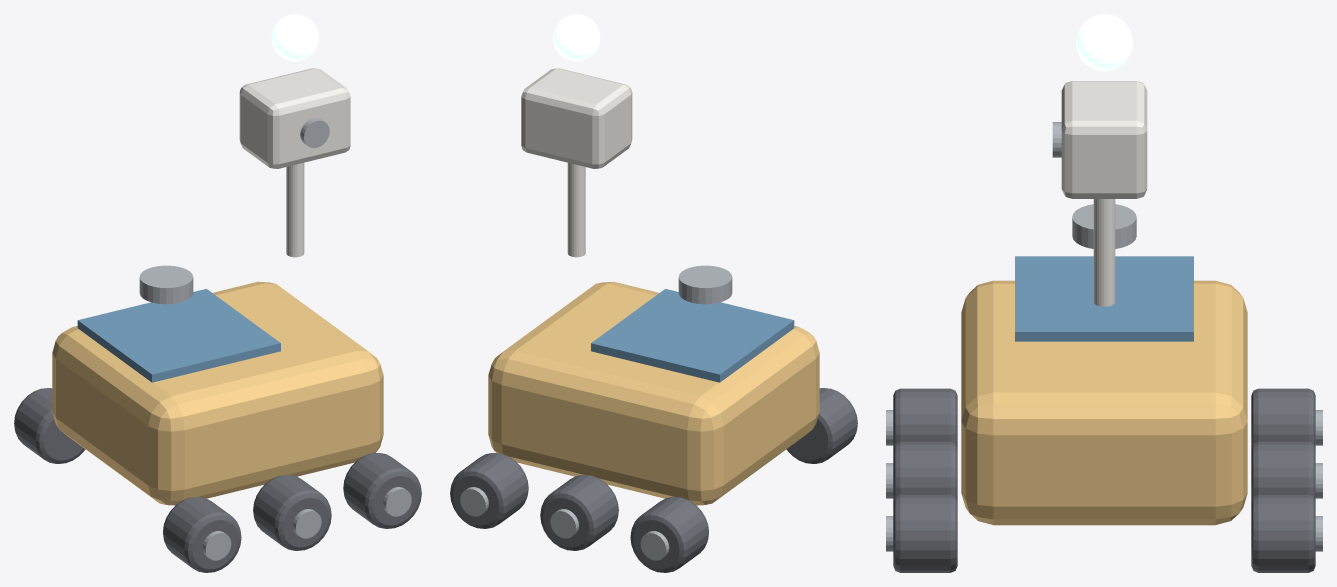
The model's file is rover.glb.
3 renders of one model, left to right at view 1: azimuth 30°, elevation 25°; view 2: azimuth 150°, elevation 25°; view 3: azimuth 270°, elevation 25°, orthographic. The views are drawn at different scales.
Parts seen in each view (by area): view 1: chassis, rover_pad, camera_head, wheel_R2, wheel_R1, wheel_R0, wheel_L0, lidar, beacon, mast, camera_lens, hub_R0 (+2 smaller); view 2: chassis, rover_pad, camera_head, wheel_L2, wheel_L1, wheel_L0, wheel_R0, lidar, beacon, mast, hub_L0, hub_L2 (+1 smaller); view 3: chassis, rover_pad, camera_head, wheel_L2, wheel_R2, wheel_L0, wheel_L1, wheel_R0, wheel_R1, beacon, mast, lidar.
Part boxes in pixels (left/top/right/bottom): chassis: left=52, top=281, right=383, bottom=505; rover_pad: left=77, top=289, right=280, bottom=382; camera_head: left=239, top=68, right=350, bottom=168; wheel_R2: left=343, top=453, right=421, bottom=528; wheel_R1: left=253, top=475, right=331, bottom=550; wheel_R0: left=163, top=497, right=241, bottom=572; wheel_L0: left=14, top=388, right=85, bottom=463; lidar: left=139, top=265, right=193, bottom=304; beacon: left=271, top=14, right=318, bottom=61; mast: left=286, top=162, right=304, bottom=257; camera_lens: left=300, top=118, right=329, bottom=148; hub_R0: left=202, top=531, right=231, bottom=560; chassis: left=488, top=281, right=819, bottom=505; rover_pad: left=591, top=289, right=794, bottom=382; camera_head: left=521, top=68, right=632, bottom=168; wheel_L2: left=450, top=453, right=528, bottom=528; wheel_L1: left=540, top=475, right=618, bottom=550; wheel_L0: left=630, top=497, right=708, bottom=572; wheel_R0: left=786, top=388, right=857, bottom=463; lidar: left=678, top=265, right=732, bottom=304; beacon: left=553, top=14, right=600, bottom=61; mast: left=567, top=162, right=585, bottom=257; hub_L0: left=640, top=531, right=669, bottom=560; hub_L2: left=460, top=487, right=488, bottom=516; chassis: left=961, top=280, right=1247, bottom=525; rover_pad: left=1015, top=256, right=1193, bottom=341; camera_head: left=1061, top=81, right=1147, bottom=198; wheel_L2: left=1251, top=494, right=1315, bottom=572; wheel_R2: left=893, top=494, right=957, bottom=572; wheel_L0: left=1251, top=388, right=1315, bottom=447; wheel_L1: left=1251, top=441, right=1315, bottom=500; wheel_R0: left=893, top=388, right=957, bottom=447; wheel_R1: left=893, top=441, right=957, bottom=500; beacon: left=1076, top=14, right=1132, bottom=71; mast: left=1093, top=199, right=1115, bottom=306; lidar: left=1072, top=204, right=1136, bottom=248.
Size of the model in its own units: 0.92 by 1.68 by 1.22.
